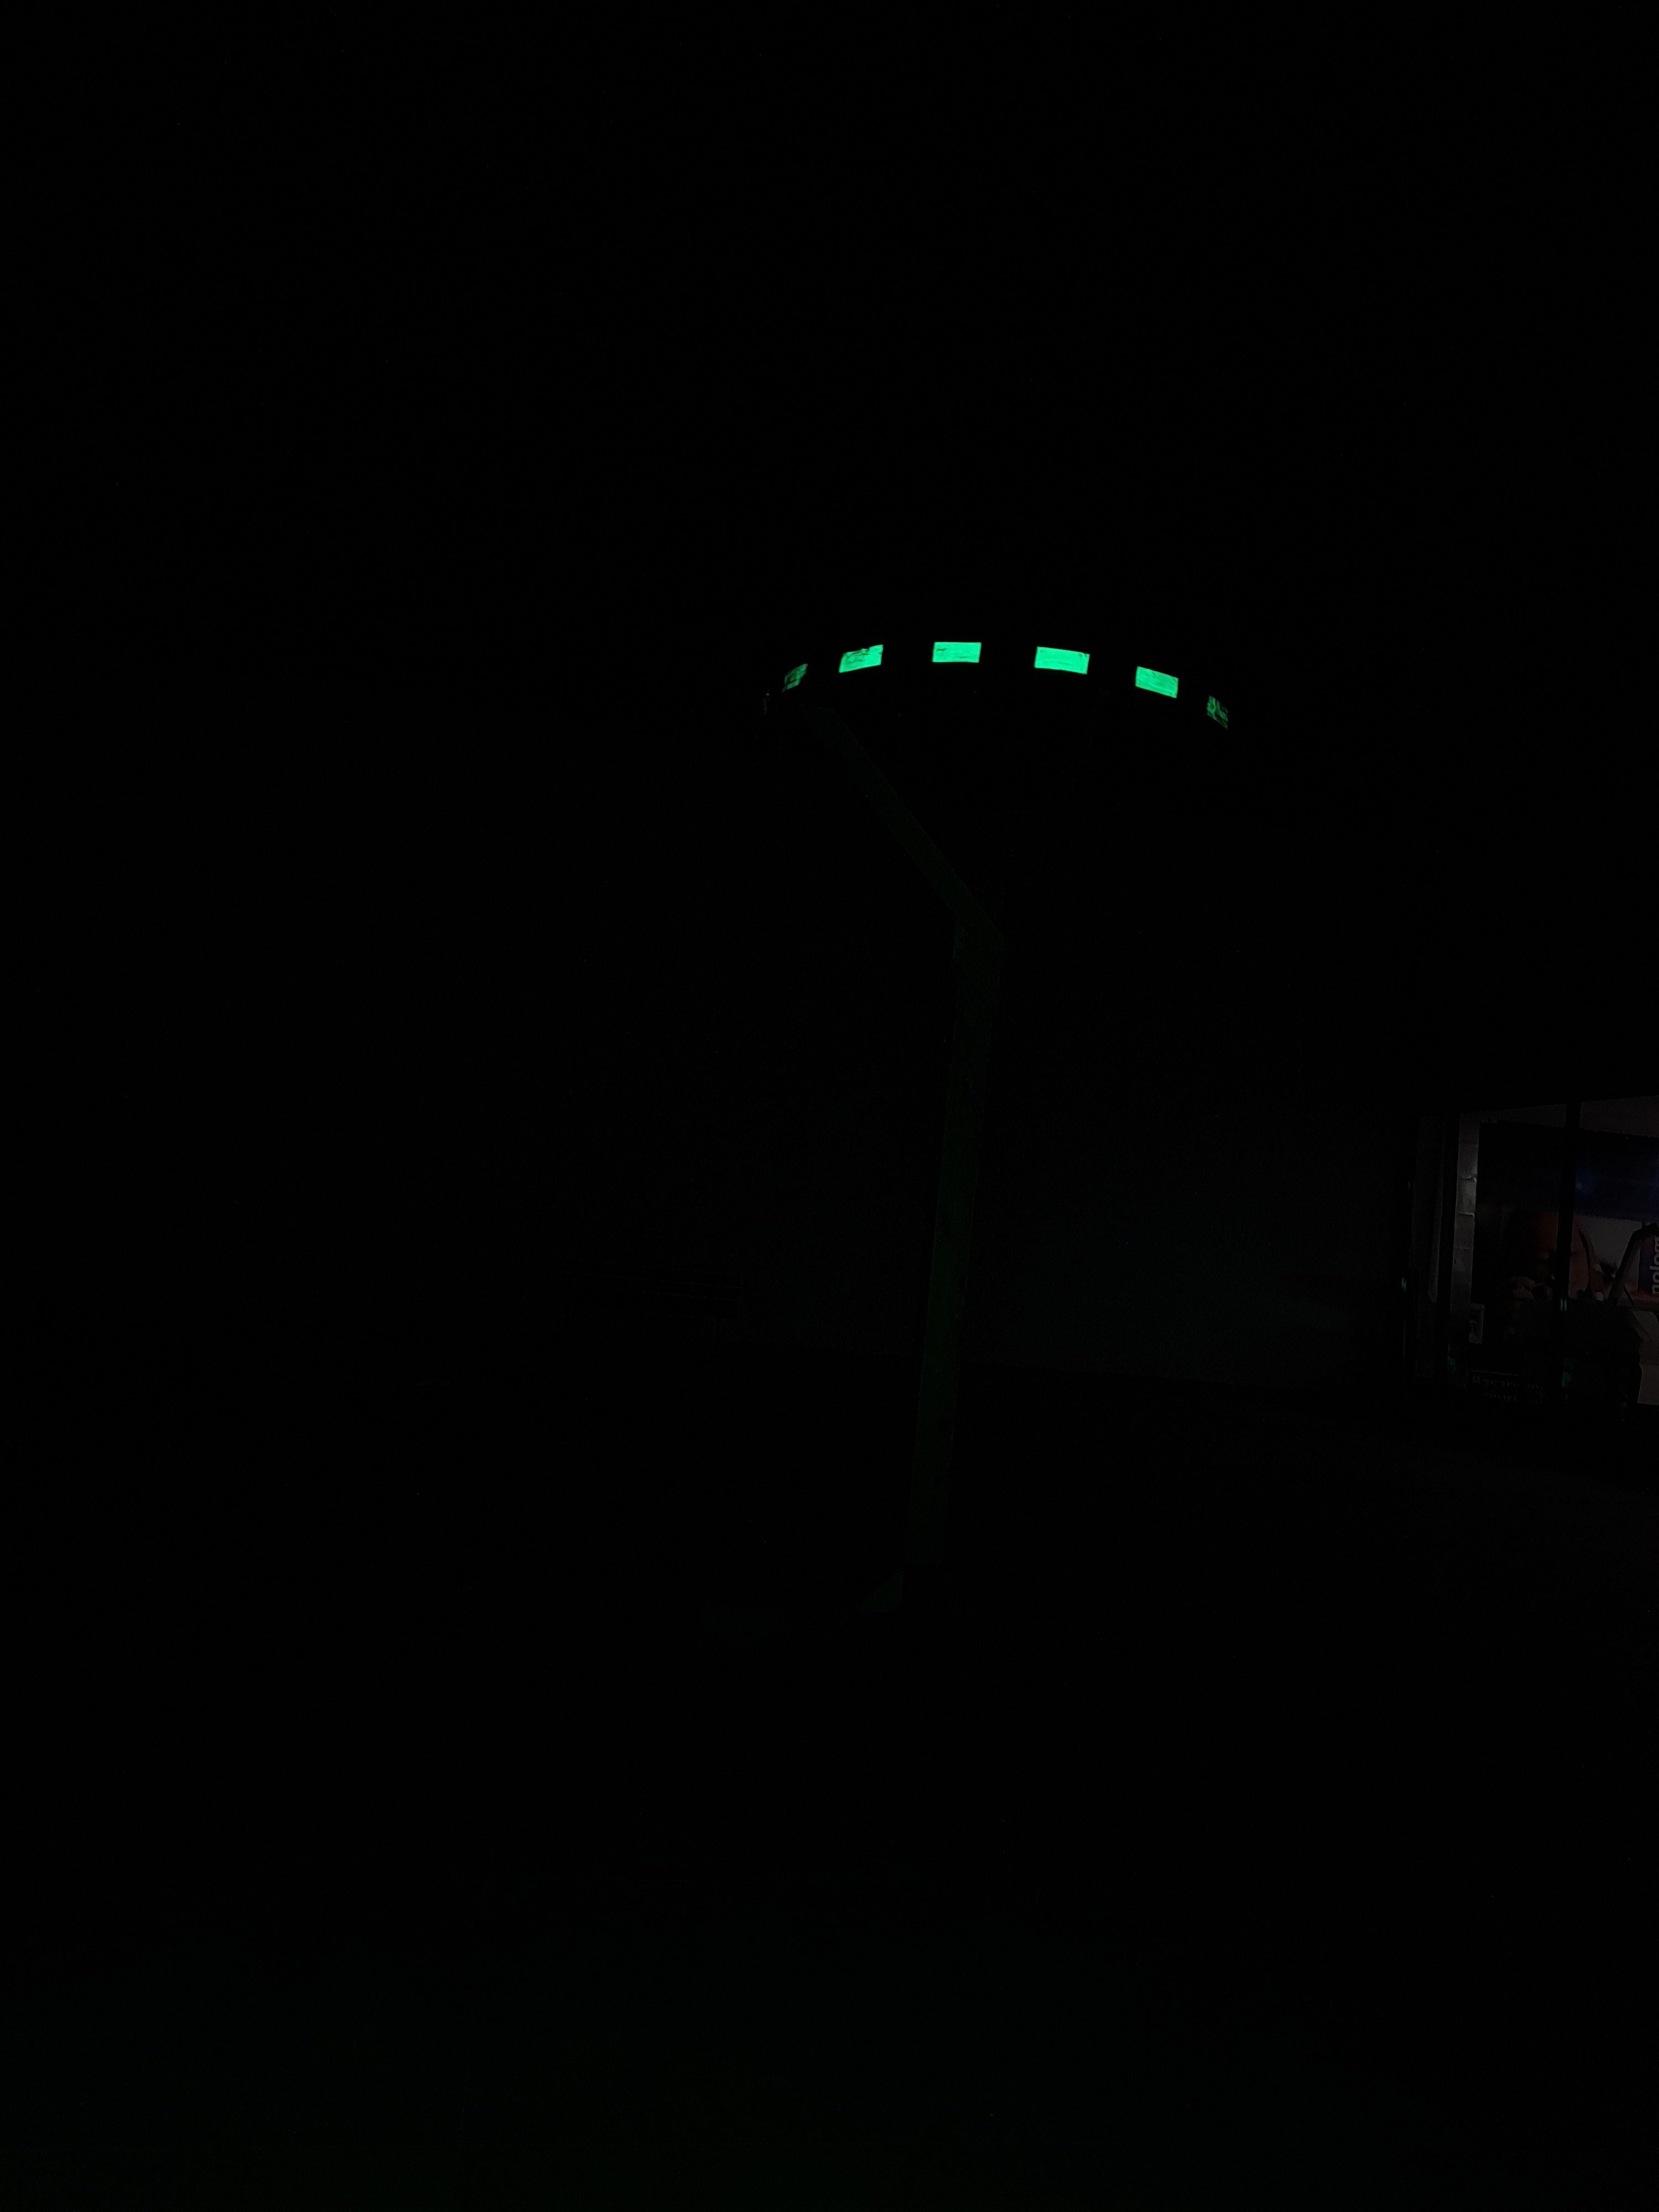hoop: (732, 613, 1244, 744)
